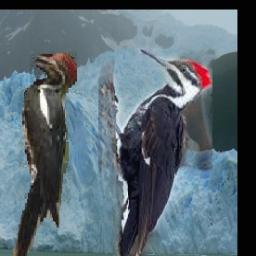Woodpecker: (99, 49, 213, 256), (14, 51, 78, 256)
